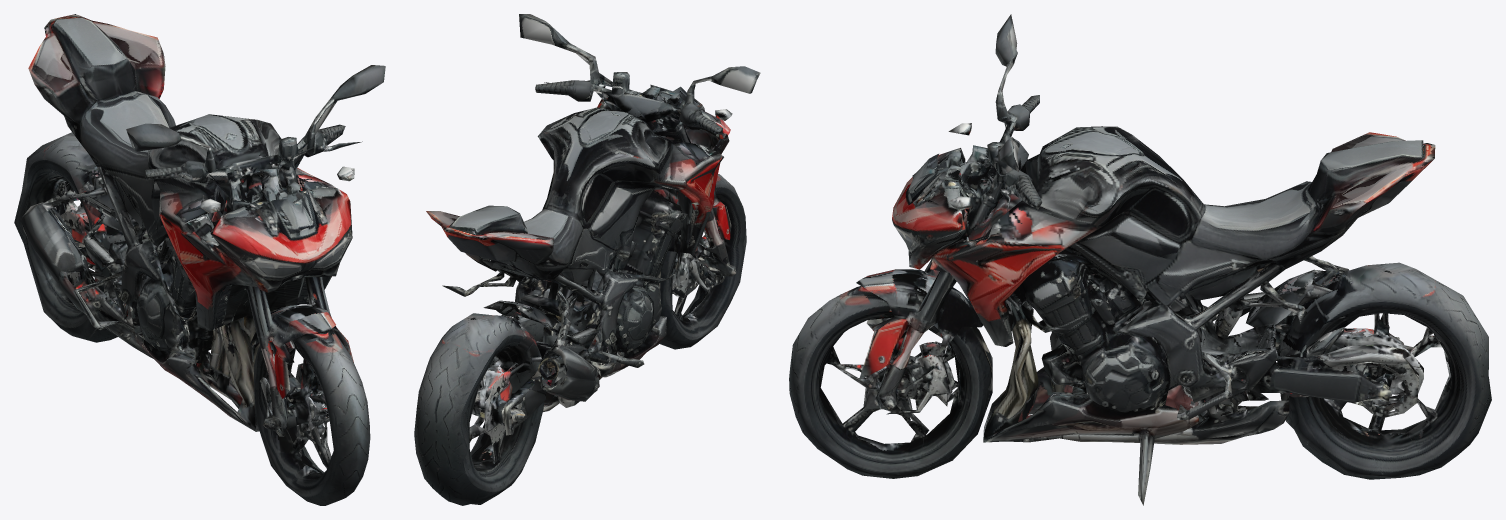
File: motorcycle.glb
The picture shows the model from 3 angles, left to right: view 1: azimuth 30°, elevation 25°; view 2: azimuth 150°, elevation 25°; view 3: azimuth 270°, elevation 25°; orthographic projection. The views are drawn at different scales.
Visible parts, largest first — view 1: texture_mapping; view 2: texture_mapping; view 3: texture_mapping.
Boxes of the visible parts, box(x1,y1,x2,y2) form: texture_mapping: box(14, 14, 385, 505); texture_mapping: box(414, 14, 760, 505); texture_mapping: box(789, 14, 1491, 505).
Size of the model in its own units: 0.4638 by 0.6257 by 0.9985.
Materials: 1 (1 with a texture image).
